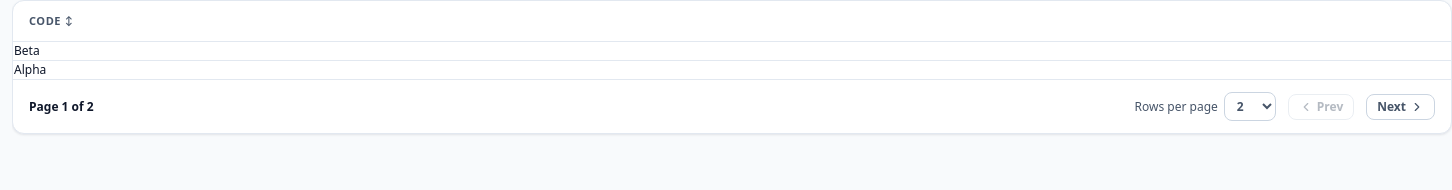
Test: DataTable (client mode) › changes the page size via the selector
Select "5" in the dropdown with test id "pagination-size" at (1250, 106), box [1224,92,1276,121]
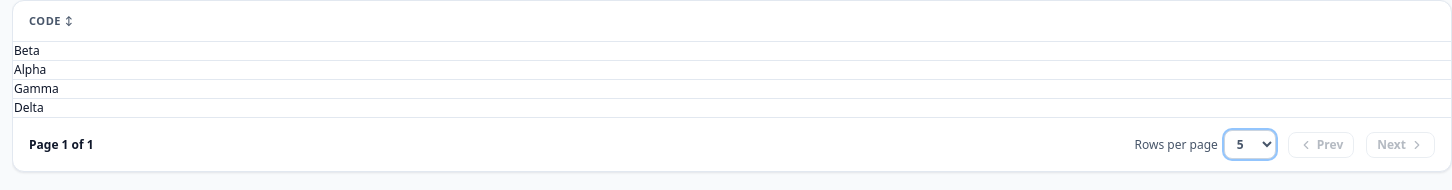
expect the text with test id "pagination-page" reads "Page 1 of 1": met, box [29,136,94,152]
expect the text "Delta" is shown: met, box [13,98,1451,117]
